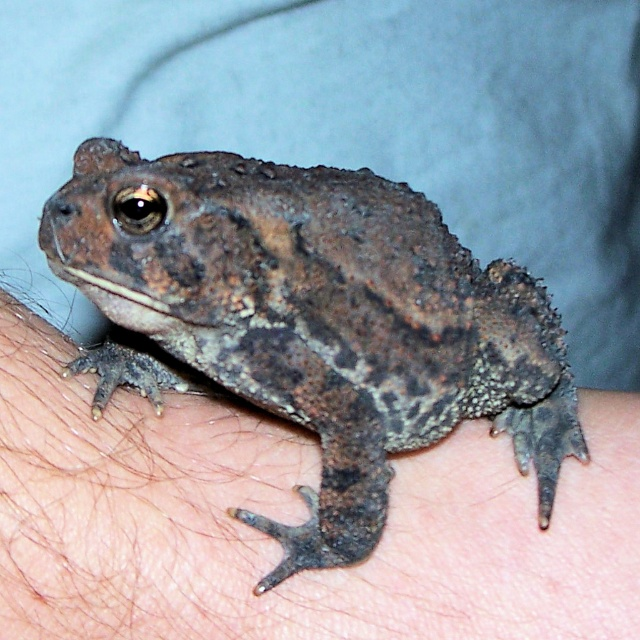Frog: (35, 135, 591, 595)
